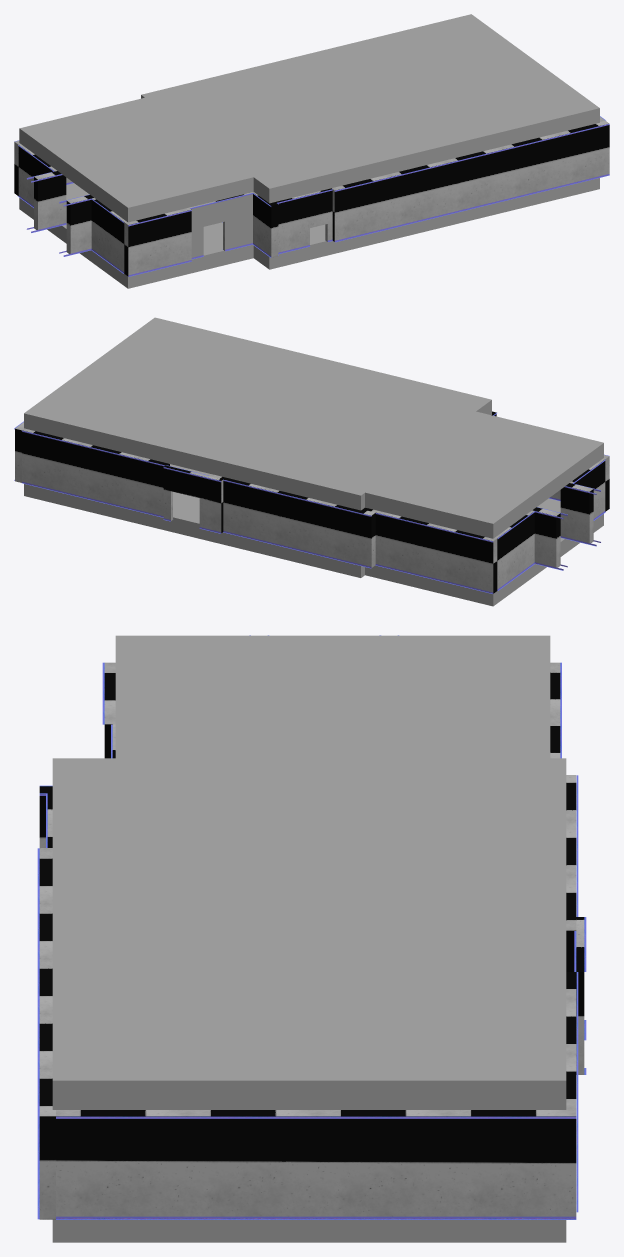
The model's file is SM_PlanningRoom.fbx.
3 renders of one model, top to bottom at view 1: azimuth 30°, elevation 25°; view 2: azimuth 150°, elevation 25°; view 3: azimuth 270°, elevation 25°, orthographic. The views are drawn at different scales.
Parts seen in each view (by area): view 1: PlanningRoomRoof2, PlanningRoomRoof1, SM_Wall_01a38, Floor14, SM_Wall_01a33, Floor8, SM_SingleDoor_01a2, SM_DoubleDoor_01a5, SM_Wall_01a32, SM_Wall_01a30, SM_Wall_01a31, SM_Wall_01a37 (+1 smaller); view 2: PlanningRoomRoof2, PlanningRoomRoof1, SM_Wall_01a43, SM_Wall_01a40, SM_Wall_01a35, Floor14, Floor8, SM_DoubleDoor_01a8, SM_Wall_01a34, SM_Wall_01a31, SM_Wall_01a30, SM_Wall_01a32 (+1 smaller); view 3: PlanningRoomRoof2, SM_Wall_01a39, PlanningRoomRoof1, Floor14, SM_Wall_01a38, SM_Wall_01a43, SM_Wall_01a40, SM_DoubleDoor_01a8, SM_Wall_01a35, SM_Wall_01a33.
Boxes of the visible parts, x1,y1,x2,y2 form: PlanningRoomRoof2: [141, 14, 599, 203]; PlanningRoomRoof1: [19, 97, 253, 222]; SM_Wall_01a38: [332, 120, 609, 242]; Floor14: [253, 178, 599, 269]; SM_Wall_01a33: [124, 207, 191, 276]; Floor8: [19, 183, 253, 288]; SM_SingleDoor_01a2: [189, 192, 252, 259]; SM_DoubleDoor_01a5: [275, 188, 332, 254]; SM_Wall_01a32: [91, 198, 126, 273]; SM_Wall_01a30: [26, 171, 66, 232]; SM_Wall_01a31: [59, 194, 93, 256]; SM_Wall_01a37: [222, 192, 278, 257]; PlanningRoomRoof2: [24, 317, 491, 510]; PlanningRoomRoof1: [365, 411, 603, 538]; SM_Wall_01a43: [209, 474, 375, 568]; SM_Wall_01a40: [22, 428, 169, 517]; SM_Wall_01a35: [363, 507, 497, 593]; Floor14: [24, 464, 364, 577]; Floor8: [365, 498, 603, 606]; SM_DoubleDoor_01a8: [163, 465, 223, 533]; SM_Wall_01a34: [495, 510, 534, 590]; SM_Wall_01a31: [560, 483, 600, 546]; SM_Wall_01a30: [532, 507, 567, 570]; SM_Wall_01a32: [570, 459, 605, 520]; PlanningRoomRoof2: [52, 758, 566, 1109]; SM_Wall_01a39: [56, 1109, 576, 1219]; PlanningRoomRoof1: [115, 635, 550, 758]; Floor14: [52, 1219, 566, 1242]; SM_Wall_01a38: [37, 848, 55, 1219]; SM_Wall_01a43: [566, 775, 578, 971]; SM_Wall_01a40: [566, 972, 578, 1212]; SM_DoubleDoor_01a8: [574, 917, 586, 1074]; SM_Wall_01a35: [550, 662, 561, 758]; SM_Wall_01a33: [102, 662, 115, 758].
Size of the model in its own units: 3506 by 549 by 1686.
